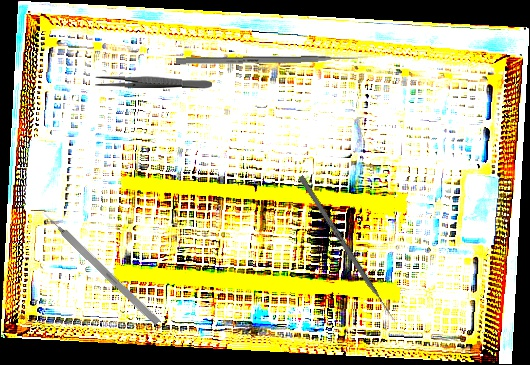Dressing Forceps: (94, 74, 213, 90)
Hook Surgical: (39, 208, 161, 326)
Pusher: (297, 175, 400, 327), (175, 54, 369, 65)
